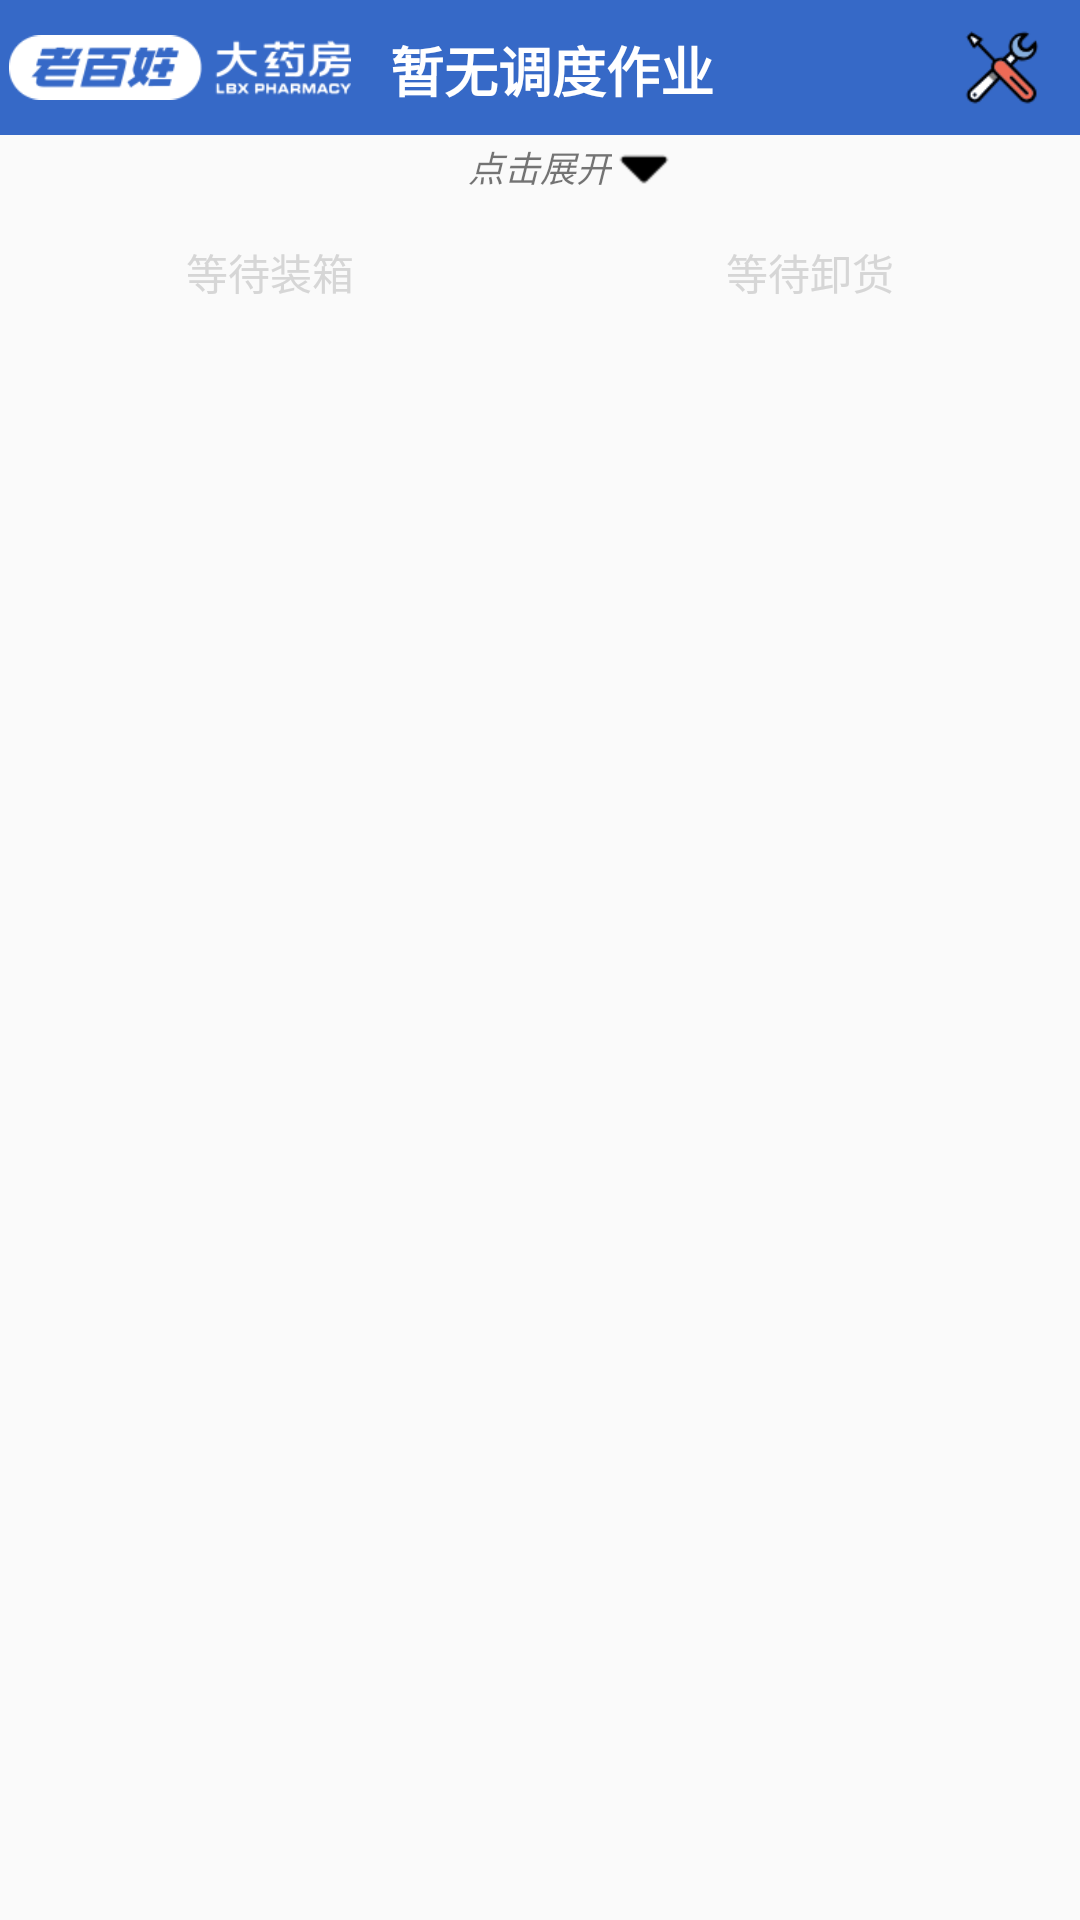

Named icons in this screenshot (1080px×1920px) and their bounding boxes, BBox(x1, y1, x2, y2):
drop down: BBox(620, 155, 668, 184)
